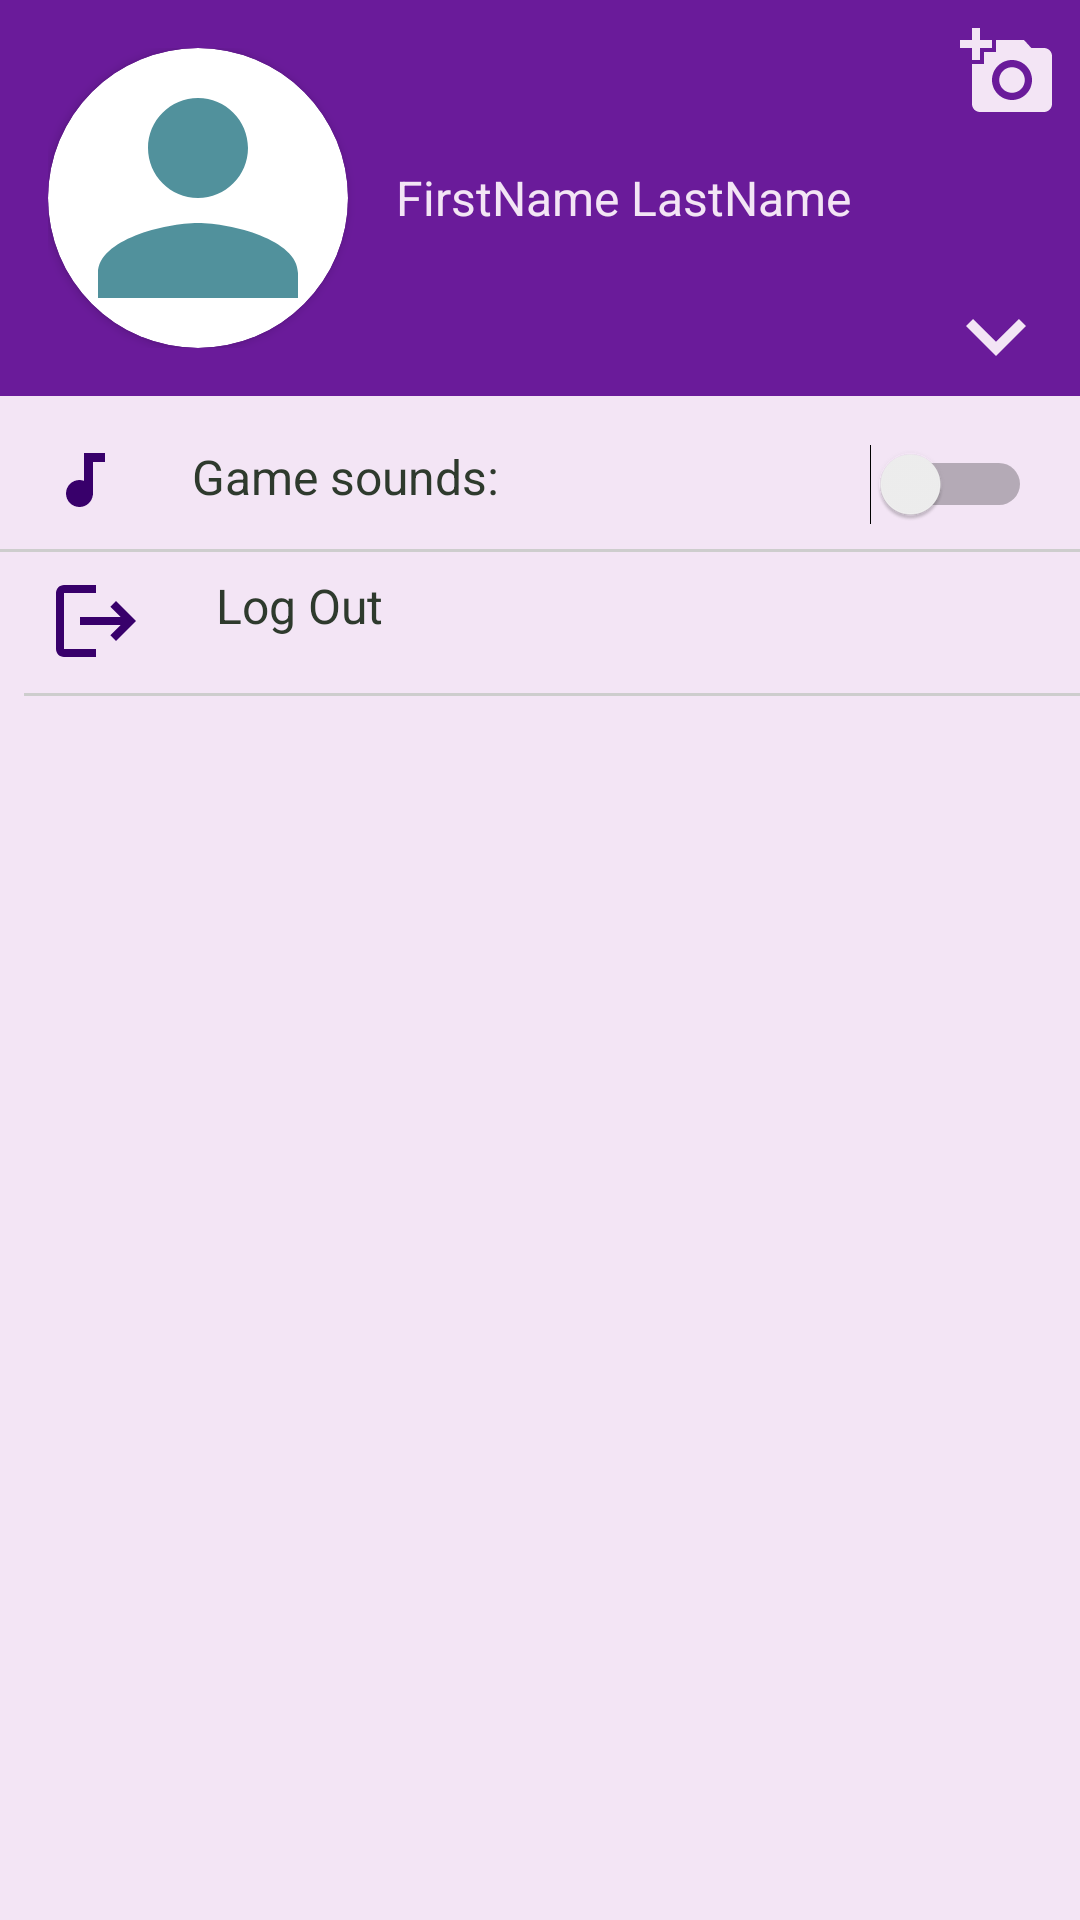

Icon click points for this 1080*1920 phone screenshot, format point (x, y):
add photo: point (1006, 70)
more: point (996, 337)
user: point (198, 198)
